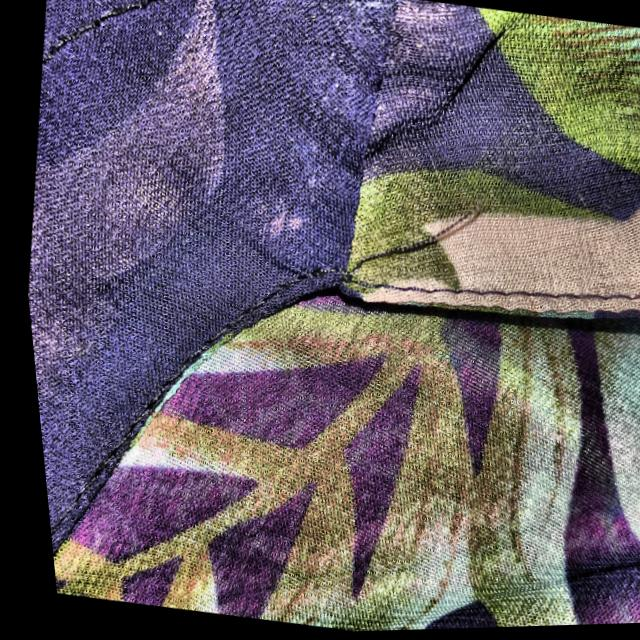Stitch: (233, 169, 560, 322)
